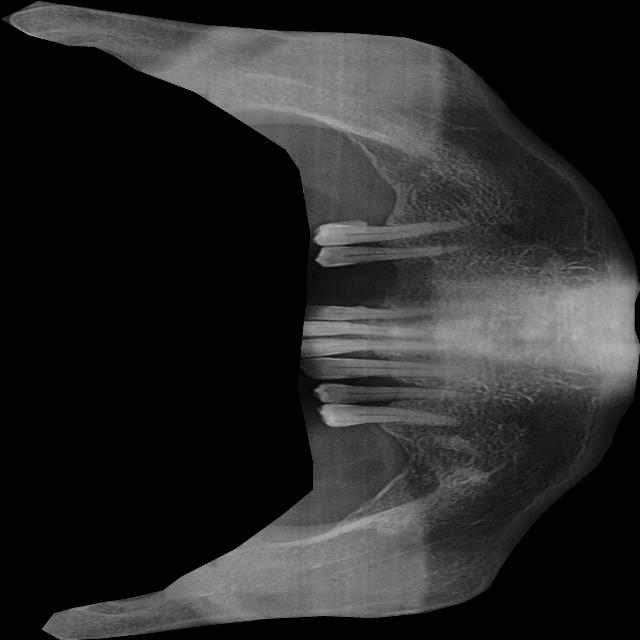mandibula: (1, 0, 640, 640)
